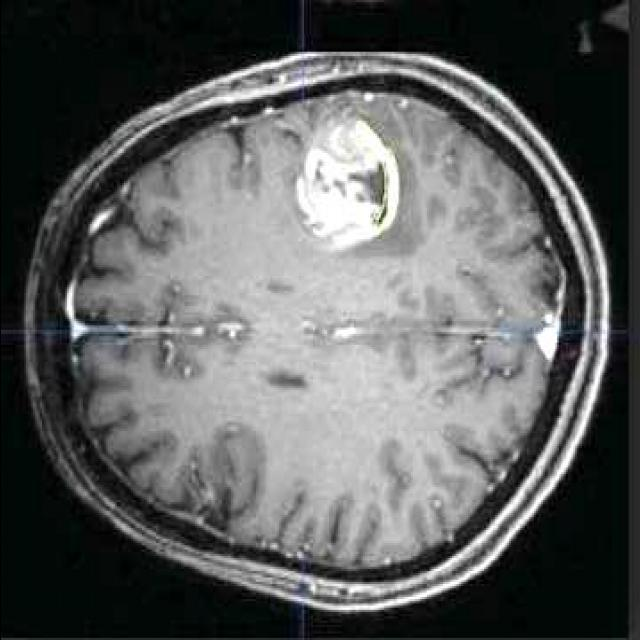tumor: (287, 97, 401, 252)
